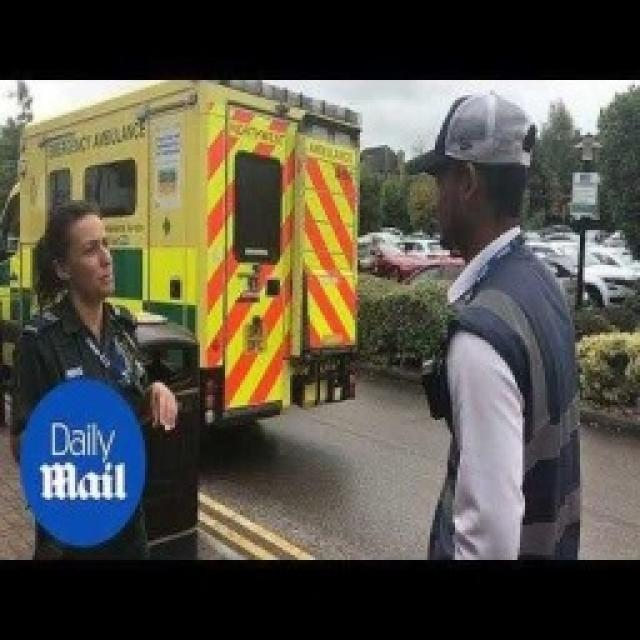emergency-vehicle: (11, 84, 364, 450)
